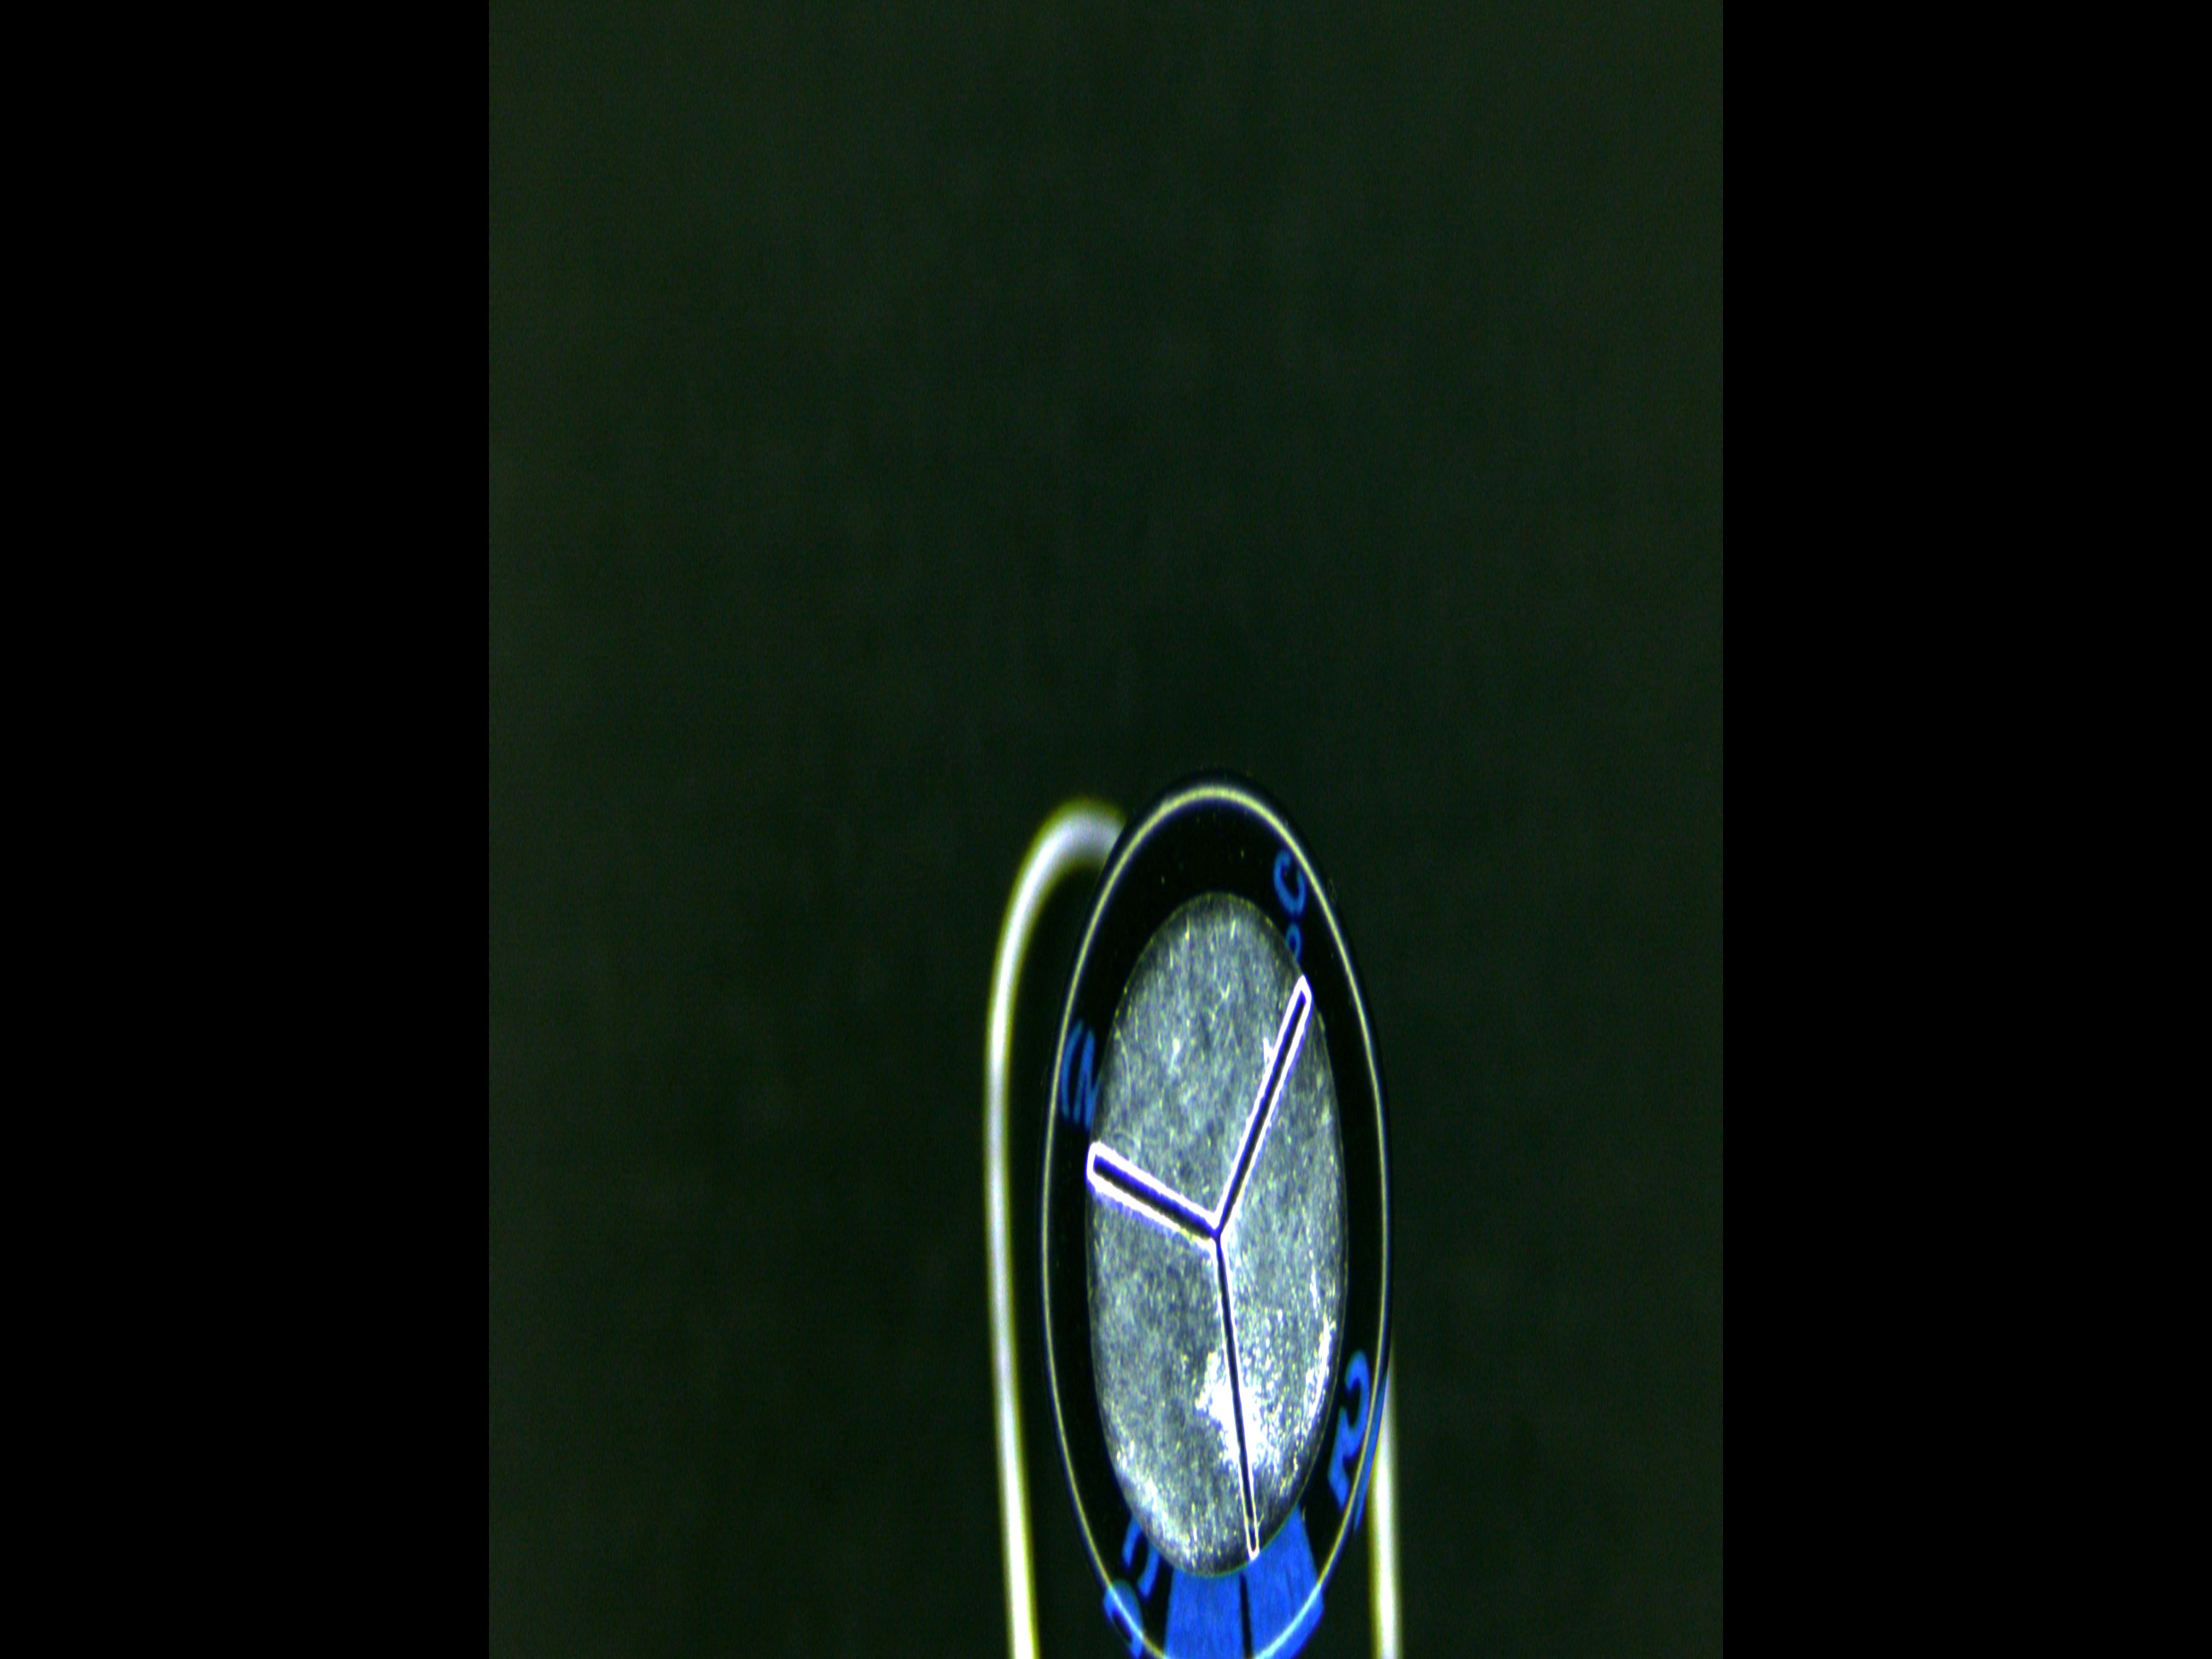c2: (1047, 779, 1393, 1659)
